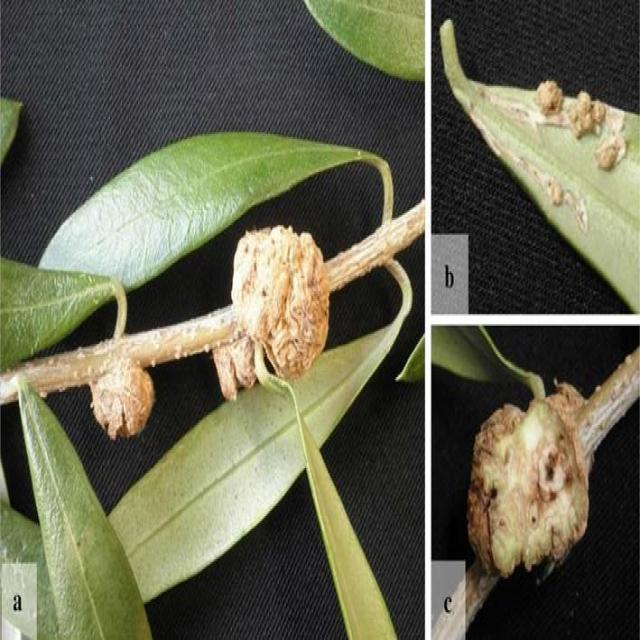Tuberculosis: (468, 382, 590, 577), (212, 224, 332, 398), (89, 344, 154, 440), (568, 91, 606, 139), (534, 80, 564, 120), (594, 136, 620, 170)
